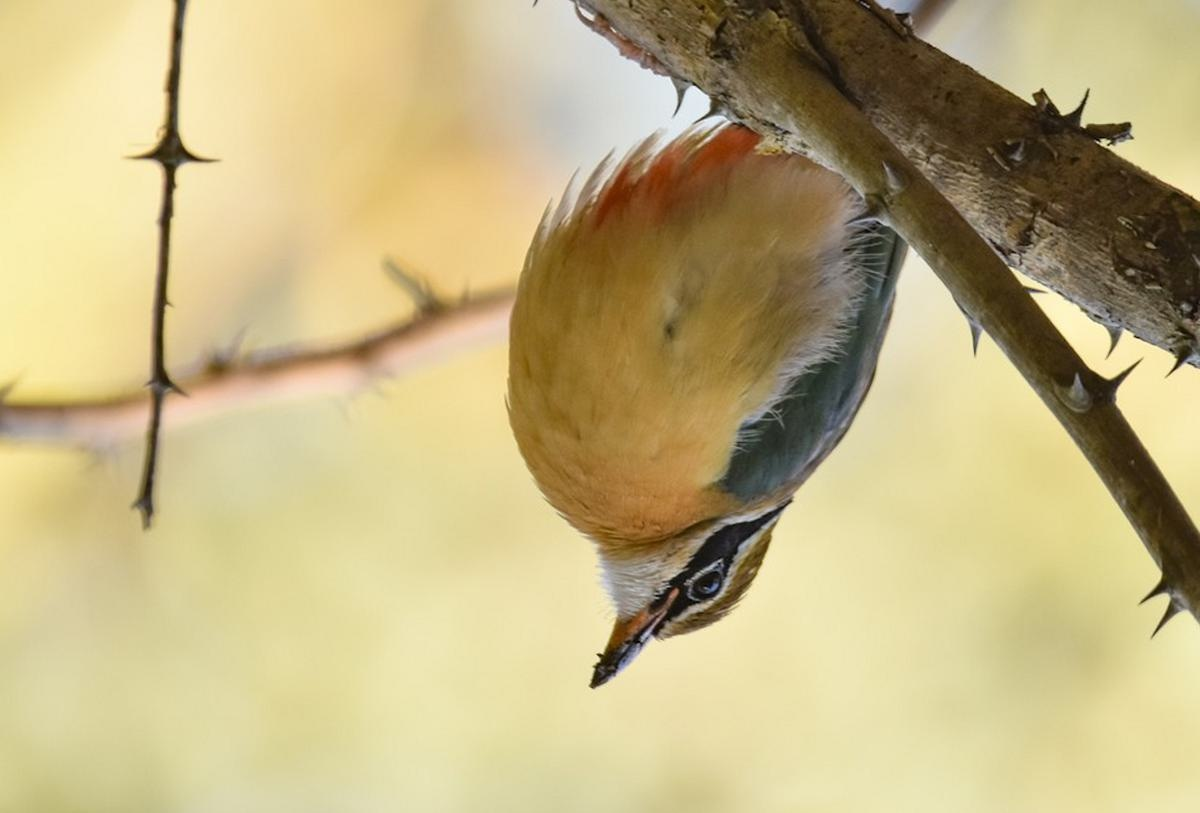pitta: (487, 90, 905, 732)
